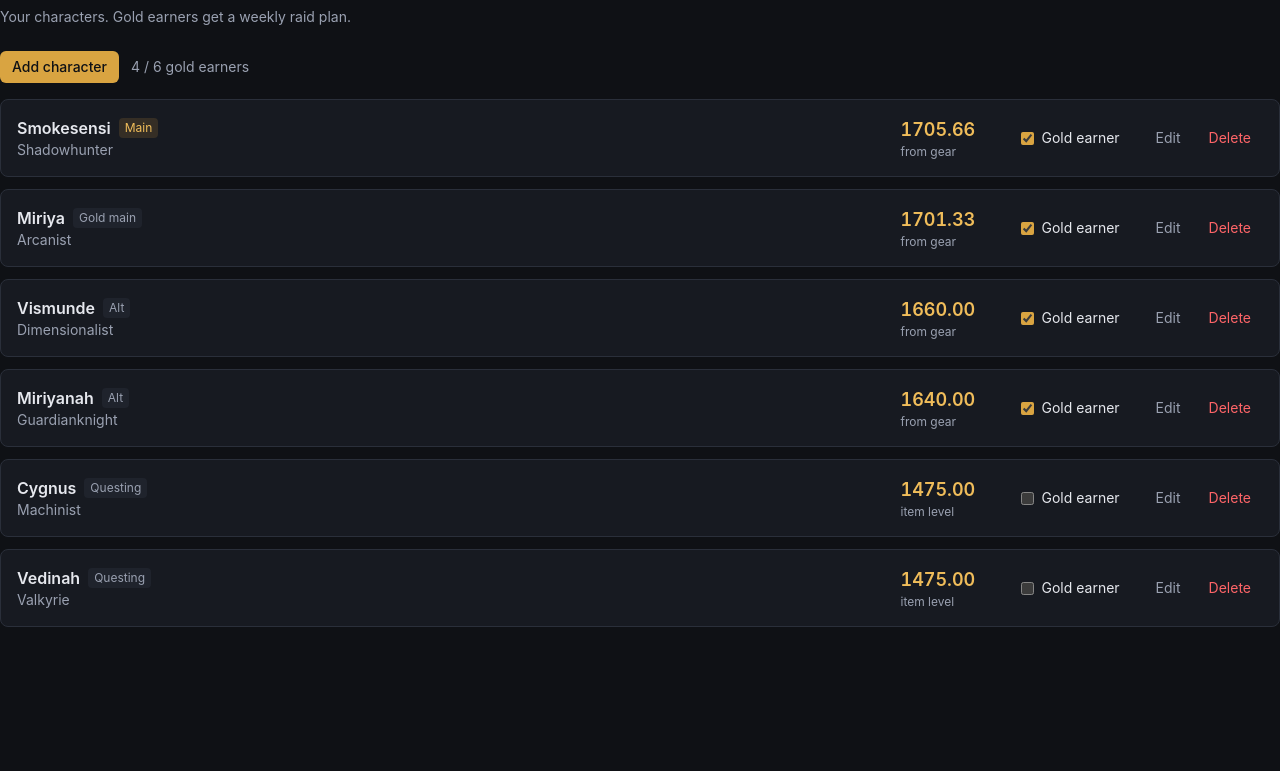
Test case: RosterPage › edits and deletes a character
This screenshot has width=1280, height=771.
Click the button "Edit" in the row of "Vedinah" at (1168, 588), box [1144,572,1193,604]
(page scrolled)
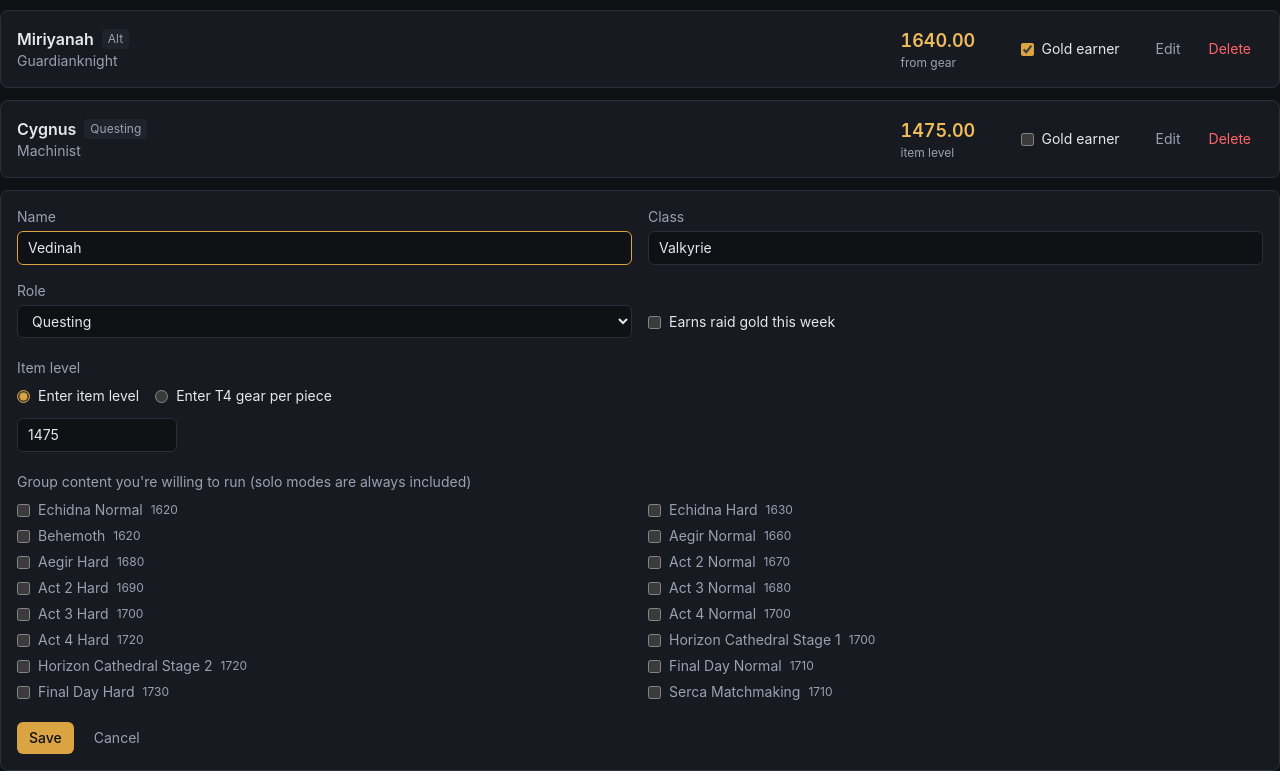
Replace the text in the number field named "Item level" with "1640" at (97, 435), box [17,418,177,452]
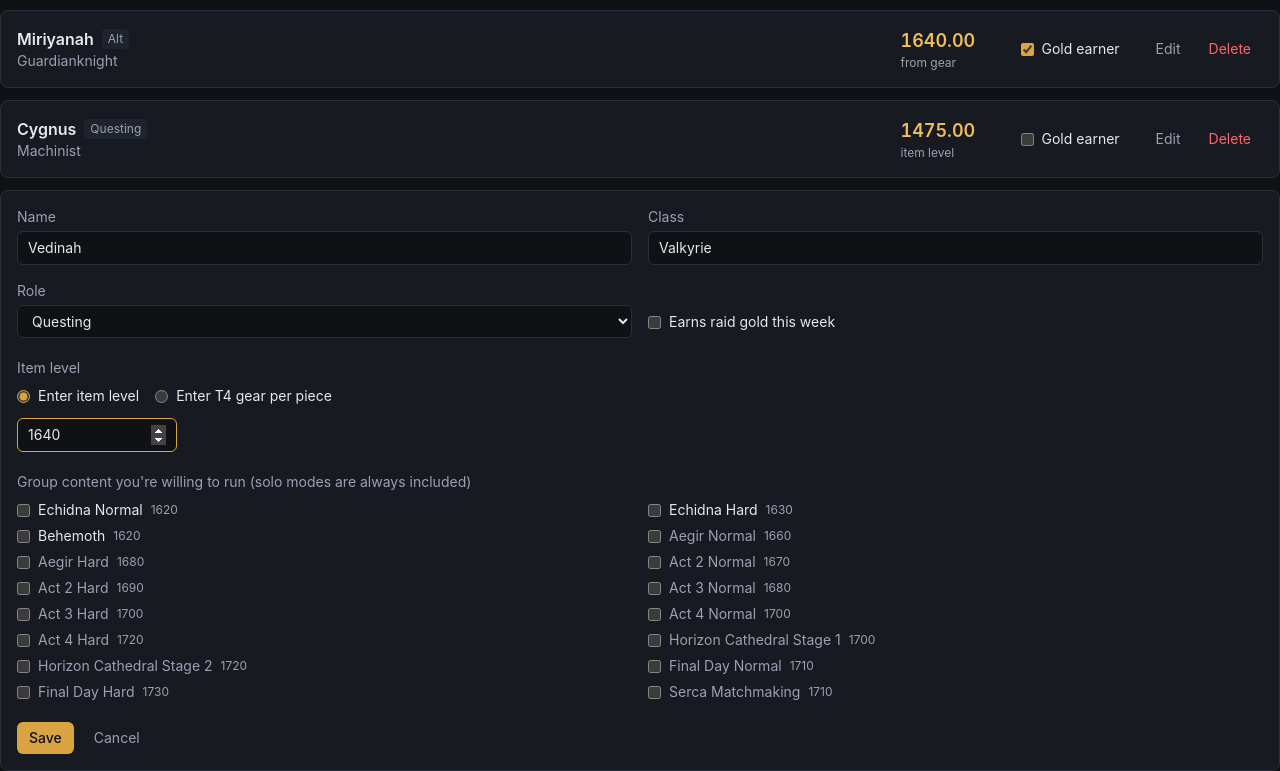
Click the button "Save" at (45, 738), box [17,722,74,754]
(page scrolled)
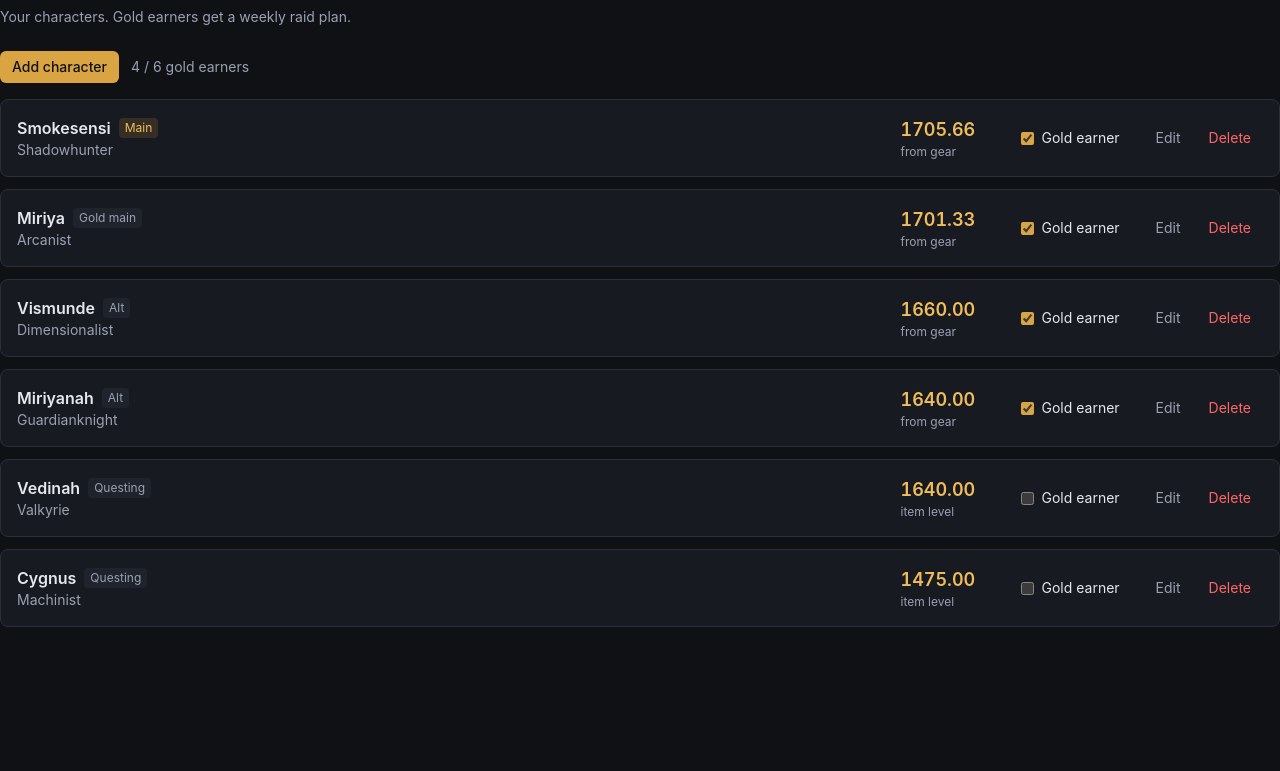
Click the button "Delete" in the row of "1475.00" at (1230, 588), box [1197,572,1263,604]
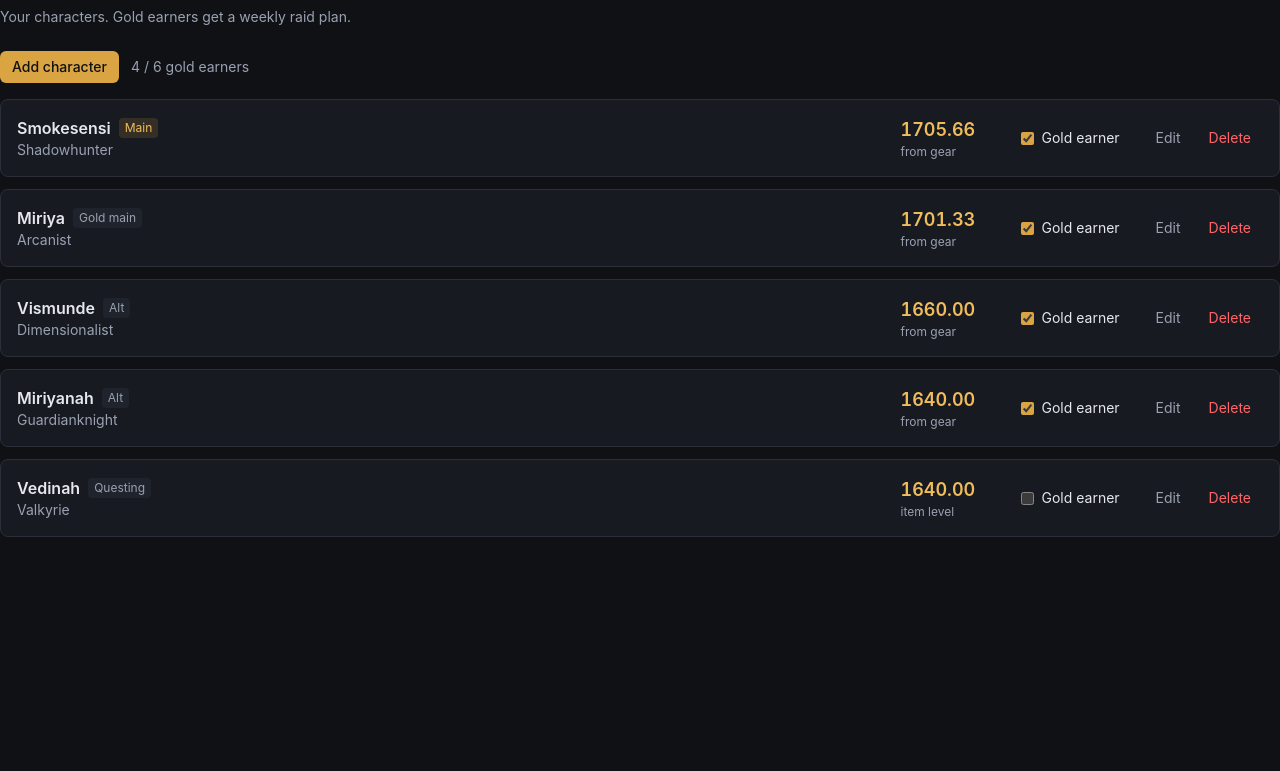
Expected: the text "Cygnus" is gone
